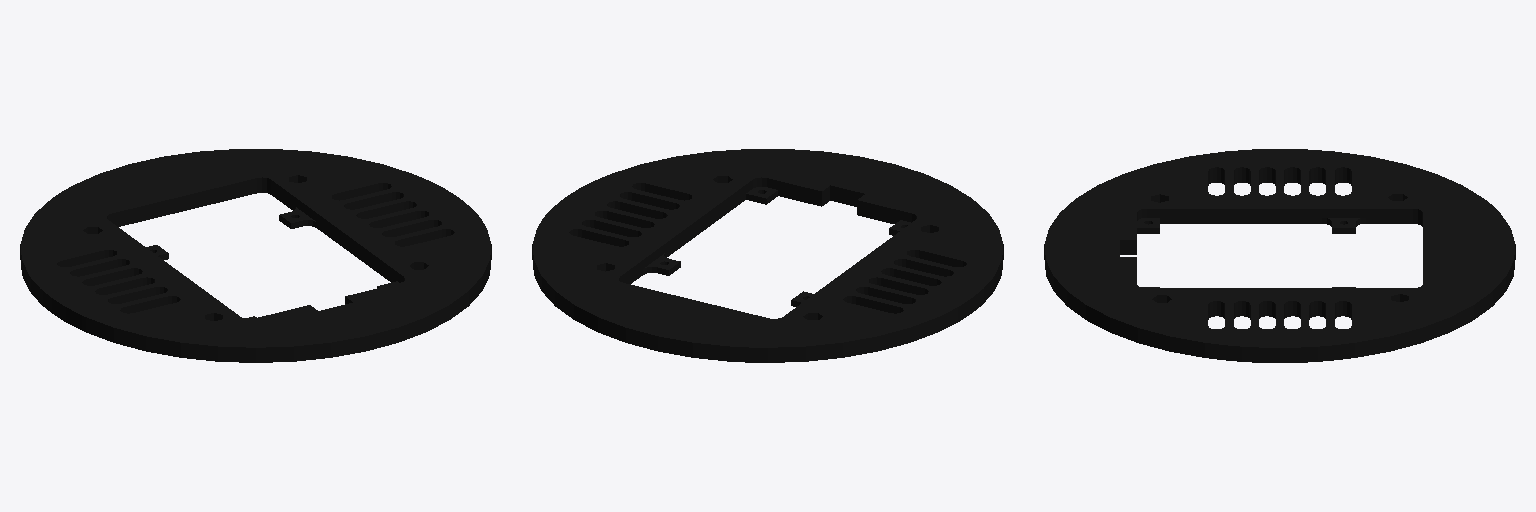
robot.urdf — TTRXX_01:
<?xml version="1.0" encoding="utf-8"?>
<!-- This URDF was automatically created by SolidWorks to URDF Exporter! Originally created by [author] ([email redacted]) 
     Commit Version: 1.6.0-4-g7f85cfe  Build Version: 1.6.7995.38578
     For more information, please see http://wiki.ros.org/sw_urdf_exporter -->
<robot
  name="TTRXX_01">
  <link
    name="base_link">
    <inertial>
      <origin
        xyz="0.00041523 3.8019E-10 -0.018258"
        rpy="0 0 0" />
      <mass
        value="0.68529" />
      <inertia
        ixx="0.00041086"
        ixy="-1.1043E-10"
        ixz="-2.371E-06"
        iyy="0.00051876"
        iyz="7.228E-12"
        izz="0.00084468" />
    </inertial>
    <visual>
      <origin
        xyz="0 0 0"
        rpy="0 0 0" />
      <geometry>
        <mesh
          filename="package://TTRXX_01/meshes/base_link.STL" />
      </geometry>
      <material
        name="">
        <color
          rgba="1 1 1 1" />
      </material>
    </visual>
    <collision>
      <origin
        xyz="0 0 0"
        rpy="0 0 0" />
      <geometry>
        <mesh
          filename="package://TTRXX_01/meshes/base_link.STL" />
      </geometry>
    </collision>
  </link>
  <link
    name="L_wheel_link">
    <inertial>
      <origin
        xyz="-5.629E-10 5.4357E-10 -0.015886"
        rpy="0 0 0" />
      <mass
        value="0.048724" />
      <inertia
        ixx="1.5816E-05"
        ixy="4.1458E-09"
        ixz="-1.7893E-13"
        iyy="1.5814E-05"
        iyz="1.7858E-13"
        izz="2.6155E-05" />
    </inertial>
    <visual>
      <origin
        xyz="0 0 0"
        rpy="0 0 0" />
      <geometry>
        <mesh
          filename="package://TTRXX_01/meshes/L_wheel_link.STL" />
      </geometry>
      <material
        name="">
        <color
          rgba="0.75294 0.75294 0.75294 1" />
      </material>
    </visual>
    <collision>
      <origin
        xyz="0 0 0"
        rpy="0 0 0" />
      <geometry>
        <mesh
          filename="package://TTRXX_01/meshes/L_wheel_link.STL" />
      </geometry>
    </collision>
  </link>
  <joint
    name="L_wheel_joint"
    type="continuous">
    <origin
      xyz="0 -0.071 -0.0225"
      rpy="-1.5708 0 0" />
    <parent
      link="base_link" />
    <child
      link="L_wheel_link" />
    <axis
      xyz="0 0 1" />
    <limit
      effort="0.323"
      velocity="10.47" />
  </joint>
  <link
    name="R_wheel_link">
    <inertial>
      <origin
        xyz="-4.8323E-10 -6.1547E-10 0.015886"
        rpy="0 0 0" />
      <mass
        value="0.048724" />
      <inertia
        ixx="1.5817E-05"
        ixy="-3.7851E-09"
        ixz="1.5281E-13"
        iyy="1.5813E-05"
        iyz="2.0138E-13"
        izz="2.6155E-05" />
    </inertial>
    <visual>
      <origin
        xyz="0 0 0"
        rpy="0 0 0" />
      <geometry>
        <mesh
          filename="package://TTRXX_01/meshes/R_wheel_link.STL" />
      </geometry>
      <material
        name="">
        <color
          rgba="0.75294 0.75294 0.75294 1" />
      </material>
    </visual>
    <collision>
      <origin
        xyz="0 0 0"
        rpy="0 0 0" />
      <geometry>
        <mesh
          filename="package://TTRXX_01/meshes/R_wheel_link.STL" />
      </geometry>
    </collision>
  </link>
  <joint
    name="R_wheel_joint"
    type="continuous">
    <origin
      xyz="0 0.071 -0.0225"
      rpy="-1.5708 0 0" />
    <parent
      link="base_link" />
    <child
      link="R_wheel_link" />
    <axis
      xyz="0 0 1" />
    <limit
      effort="0.323"
      velocity="10.47" />
  </joint>
  <link
    name="U_base_wheel_1_link">
    <inertial>
      <origin
        xyz="0.0041491 -8.4566E-05 0.0053957"
        rpy="0 0 0" />
      <mass
        value="0.009087" />
      <inertia
        ixx="5.254E-07"
        ixy="-4.3301E-10"
        ixz="-9.4848E-08"
        iyy="4.8759E-07"
        iyz="1.0854E-09"
        izz="7.6419E-07" />
    </inertial>
    <visual>
      <origin
        xyz="0 0 0"
        rpy="0 0 0" />
      <geometry>
        <mesh
          filename="package://TTRXX_01/meshes/U_base_wheel_1_link.STL" />
      </geometry>
      <material
        name="">
        <color
          rgba="0.77647 0.75686 0.73725 1" />
      </material>
    </visual>
    <collision>
      <origin
        xyz="0 0 0"
        rpy="0 0 0" />
      <geometry>
        <mesh
          filename="package://TTRXX_01/meshes/U_base_wheel_1_link.STL" />
      </geometry>
    </collision>
  </link>
  <joint
    name="U_base_wheel_1_joint"
    type="continuous">
    <origin
      xyz="0.057514 0 -0.0234"
      rpy="3.1416 0 0" />
    <parent
      link="base_link" />
    <child
      link="U_base_wheel_1_link" />
    <axis
      xyz="0 0 -1" />
    <limit
      effort="0.323"
      velocity="10.47" />
  </joint>
  <link
    name="U_wheel_1_link">
    <inertial>
      <origin
        xyz="0 0 0"
        rpy="0 0 0" />
      <mass
        value="0.0045951" />
      <inertia
        ixx="2.7312E-07"
        ixy="-2.2683E-23"
        ixz="-2.3051E-23"
        iyy="2.7312E-07"
        iyz="-8.8302E-23"
        izz="4.0127E-07" />
    </inertial>
    <visual>
      <origin
        xyz="0 0 0"
        rpy="0 0 0" />
      <geometry>
        <mesh
          filename="package://TTRXX_01/meshes/U_wheel_1_link.STL" />
      </geometry>
      <material
        name="">
        <color
          rgba="1 1 1 1" />
      </material>
    </visual>
    <collision>
      <origin
        xyz="0 0 0"
        rpy="0 0 0" />
      <geometry>
        <mesh
          filename="package://TTRXX_01/meshes/U_wheel_1_link.STL" />
      </geometry>
    </collision>
  </link>
  <joint
    name="U_wheel_1_joint"
    type="continuous">
    <origin
      xyz="0.015768 -0.00018037 0.019619"
      rpy="1.5822 -1.5708 0" />
    <parent
      link="U_base_wheel_1_link" />
    <child
      link="U_wheel_1_link" />
    <axis
      xyz="0 0 1" />
    <limit
      effort="0.323"
      velocity="10.47" />
  </joint>
  <link
    name="U_base_wheel_2_link">
    <inertial>
      <origin
        xyz="-0.0041491 8.4566E-05 0.0019957"
        rpy="0 0 0" />
      <mass
        value="0.009087" />
      <inertia
        ixx="5.254E-07"
        ixy="-4.3301E-10"
        ixz="9.4848E-08"
        iyy="4.8759E-07"
        iyz="-1.0854E-09"
        izz="7.6419E-07" />
    </inertial>
    <visual>
      <origin
        xyz="0 0 0"
        rpy="0 0 0" />
      <geometry>
        <mesh
          filename="package://TTRXX_01/meshes/U_base_wheel_2_link.STL" />
      </geometry>
      <material
        name="">
        <color
          rgba="0.77647 0.75686 0.73725 1" />
      </material>
    </visual>
    <collision>
      <origin
        xyz="0 0 0"
        rpy="0 0 0" />
      <geometry>
        <mesh
          filename="package://TTRXX_01/meshes/U_base_wheel_2_link.STL" />
      </geometry>
    </collision>
  </link>
  <joint
    name="U_base_wheel_2_joint"
    type="continuous">
    <origin
      xyz="-0.057514 0 -0.0268"
      rpy="3.1416 0 0" />
    <parent
      link="base_link" />
    <child
      link="U_base_wheel_2_link" />
    <axis
      xyz="0 0 -1" />
    <limit
      effort="0.323"
      velocity="10.47" />
  </joint>
  <link
    name="U_wheel_2_link">
    <inertial>
      <origin
        xyz="0 1.3878E-17 -8.6736E-19"
        rpy="0 0 0" />
      <mass
        value="0.0045951" />
      <inertia
        ixx="2.7312E-07"
        ixy="4.1047E-23"
        ixz="1.9175E-23"
        iyy="2.7312E-07"
        iyz="-7.2378E-23"
        izz="4.0127E-07" />
    </inertial>
    <visual>
      <origin
        xyz="0 0 0"
        rpy="0 0 0" />
      <geometry>
        <mesh
          filename="package://TTRXX_01/meshes/U_wheel_2_link.STL" />
      </geometry>
      <material
        name="">
        <color
          rgba="1 1 1 1" />
      </material>
    </visual>
    <collision>
      <origin
        xyz="0 0 0"
        rpy="0 0 0" />
      <geometry>
        <mesh
          filename="package://TTRXX_01/meshes/U_wheel_2_link.STL" />
      </geometry>
    </collision>
  </link>
  <joint
    name="U_wheel_2_joint"
    type="continuous">
    <origin
      xyz="-0.015768 0.00018037 0.016219"
      rpy="1.5822 -1.5708 0" />
    <parent
      link="U_base_wheel_2_link" />
    <child
      link="U_wheel_2_link" />
    <axis
      xyz="0 0 1" />
    <limit
      effort="0.323"
      velocity="10.47" />
  </joint>
  <link
    name="Support_A_link">
    <inertial>
      <origin
        xyz="0 0 0"
        rpy="0 0 0" />
      <mass
        value="0" />
      <inertia
        ixx="0"
        ixy="0"
        ixz="0"
        iyy="0"
        iyz="0"
        izz="0" />
    </inertial>
    <visual>
      <origin
        xyz="0 0 0"
        rpy="0 0 0" />
      <geometry>
        <mesh
          filename="package://TTRXX_01/meshes/Support_A_link.STL" />
      </geometry>
      <material
        name="">
        <color
          rgba="1 1 1 1" />
      </material>
    </visual>
    <collision>
      <origin
        xyz="0 0 0"
        rpy="0 0 0" />
      <geometry>
        <mesh
          filename="package://TTRXX_01/meshes/Support_A_link.STL" />
      </geometry>
    </collision>
  </link>
  <joint
    name="Support_A_joint"
    type="fixed">
    <origin
      xyz="0 0 0.02"
      rpy="0 0 0" />
    <parent
      link="base_link" />
    <child
      link="Support_A_link" />
    <axis
      xyz="0 0 0" />
  </joint>
  <link
    name="M_base_link">
    <inertial>
      <origin
        xyz="2.0673E-17 0.00022336 -0.0025145"
        rpy="0 0 0" />
      <mass
        value="0.058516" />
      <inertia
        ixx="9.721E-05"
        ixy="1.6542E-21"
        ixz="3.1135E-22"
        iyy="9.3239E-05"
        iyz="-5.8008E-09"
        izz="0.0001902" />
    </inertial>
    <visual>
      <origin
        xyz="0 0 0"
        rpy="0 0 0" />
      <geometry>
        <mesh
          filename="package://TTRXX_01/meshes/M_base_link.STL" />
      </geometry>
      <material
        name="">
        <color
          rgba="0.11373 0.11373 0.11373 1" />
      </material>
    </visual>
    <collision>
      <origin
        xyz="0 0 0"
        rpy="0 0 0" />
      <geometry>
        <mesh
          filename="package://TTRXX_01/meshes/M_base_link.STL" />
      </geometry>
    </collision>
  </link>
  <joint
    name="M_base_joint"
    type="fixed">
    <origin
      xyz="0 0 0.025"
      rpy="0 0 0" />
    <parent
      link="Support_A_link" />
    <child
      link="M_base_link" />
    <axis
      xyz="0 0 0" />
  </joint>
  <link
    name="Support_B_link">
    <inertial>
      <origin
        xyz="-0.011902 0.011666 -0.0036221"
        rpy="0 0 0" />
      <mass
        value="0.02878" />
      <inertia
        ixx="1.1292E-06"
        ixy="-1.0751E-12"
        ixz="2.9227E-11"
        iyy="1.1292E-06"
        iyz="1.8804E-11"
        izz="1.0391E-07" />
    </inertial>
    <visual>
      <origin
        xyz="0 0 0"
        rpy="0 0 0" />
      <geometry>
        <mesh
          filename="package://TTRXX_01/meshes/Support_B_link.STL" />
      </geometry>
      <material
        name="">
        <color
          rgba="0.75294 0.75294 0.75294 1" />
      </material>
    </visual>
    <collision>
      <origin
        xyz="0 0 0"
        rpy="0 0 0" />
      <geometry>
        <mesh
          filename="package://TTRXX_01/meshes/Support_B_link.STL" />
      </geometry>
    </collision>
  </link>
  <joint
    name="Support_B_joint"
    type="fixed">
    <origin
      xyz="0 0 0.0255"
      rpy="0 0 0" />
    <parent
      link="M_base_link" />
    <child
      link="Support_B_link" />
    <axis
      xyz="0 0 0" />
  </joint>
  <link
    name="T_base_link">
    <inertial>
      <origin
        xyz="0.0001592 -9.7064E-06 -2.3829E-05"
        rpy="0 0 0" />
      <mass
        value="0.11503" />
      <inertia
        ixx="0.00013683"
        ixy="-1.5545E-07"
        ixz="-1.9179E-07"
        iyy="0.0001469"
        iyz="-9.5363E-09"
        izz="0.00027425" />
    </inertial>
    <visual>
      <origin
        xyz="0 0 0"
        rpy="0 0 0" />
      <geometry>
        <mesh
          filename="package://TTRXX_01/meshes/T_base_link.STL" />
      </geometry>
      <material
        name="">
        <color
          rgba="1 1 1 1" />
      </material>
    </visual>
    <collision>
      <origin
        xyz="0 0 0"
        rpy="0 0 0" />
      <geometry>
        <mesh
          filename="package://TTRXX_01/meshes/T_base_link.STL" />
      </geometry>
    </collision>
  </link>
  <joint
    name="T_base_joint"
    type="fixed">
    <origin
      xyz="0 0 0.0305"
      rpy="0 0 0" />
    <parent
      link="Support_B_link" />
    <child
      link="T_base_link" />
    <axis
      xyz="0 0 0" />
  </joint>
</robot>

--- Facts derived from the render (not from the file) ---
Views: 3 orthographic renders of the robot side by side, from view 1: azimuth 30°, elevation 25°; view 2: azimuth 150°, elevation 25°; view 3: azimuth 270°, elevation 25°.
Model TTRXX_01 with 11 links and 10 joints (6 continuous, 4 fixed), rooted at base_link, posed every joint at zero.
Links seen in each view (by area): view 1: M_base_link; view 2: M_base_link; view 3: M_base_link.
Link boxes in pixels (bbox=[...]): M_base_link: bbox=[20, 149, 491, 362]; M_base_link: bbox=[532, 149, 1003, 362]; M_base_link: bbox=[1044, 149, 1515, 362].
Size in the robot's own frame: 0.14 by 0.1399 by 0.005 metres.
1 mesh visuals loaded from 11 distinct referenced files (1 binary STL); not drawn: 9 (reference not matched to a file when rendering), 1 (file found but could not be loaded).